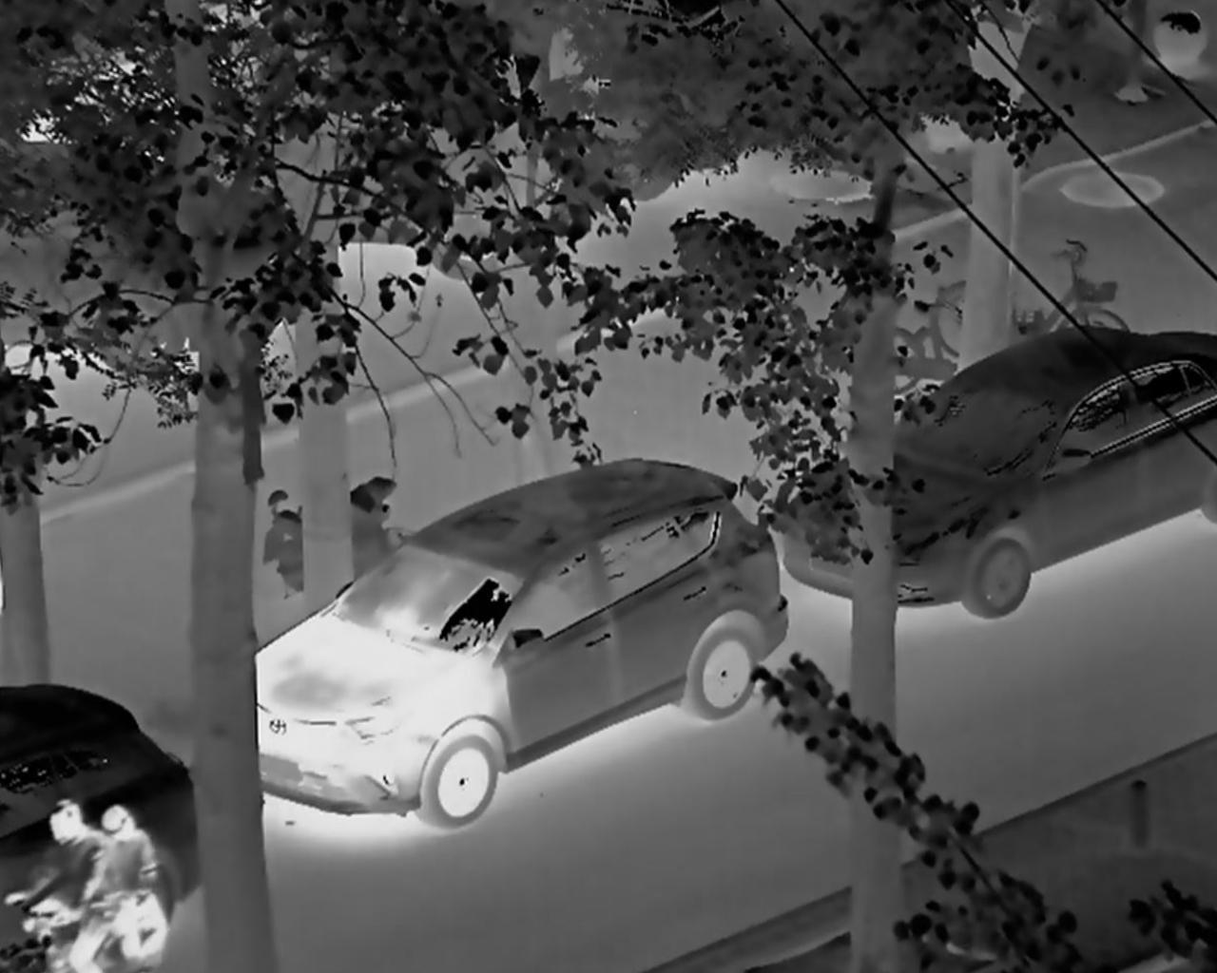person: (81, 788, 177, 969), (18, 791, 110, 973)
